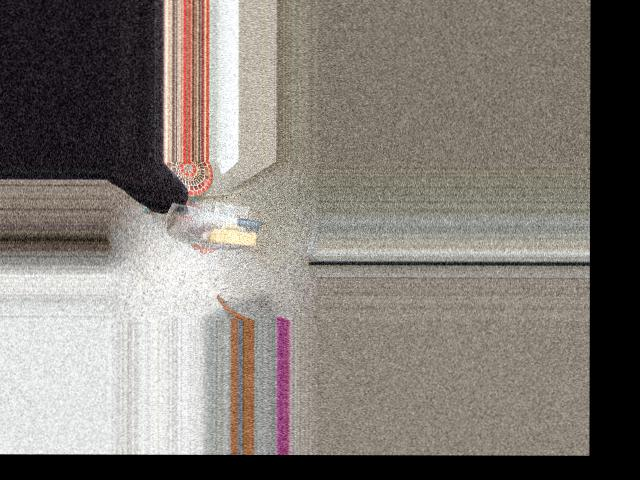cheese: (162, 199, 260, 250)
